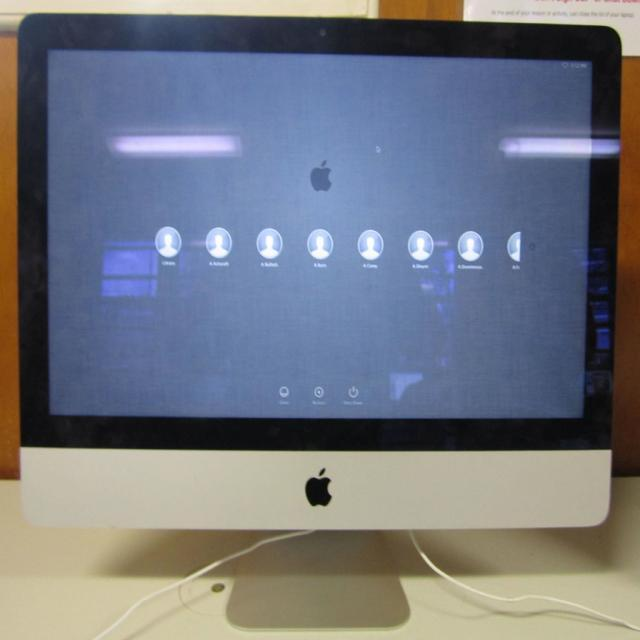others: (9, 6, 626, 619)
